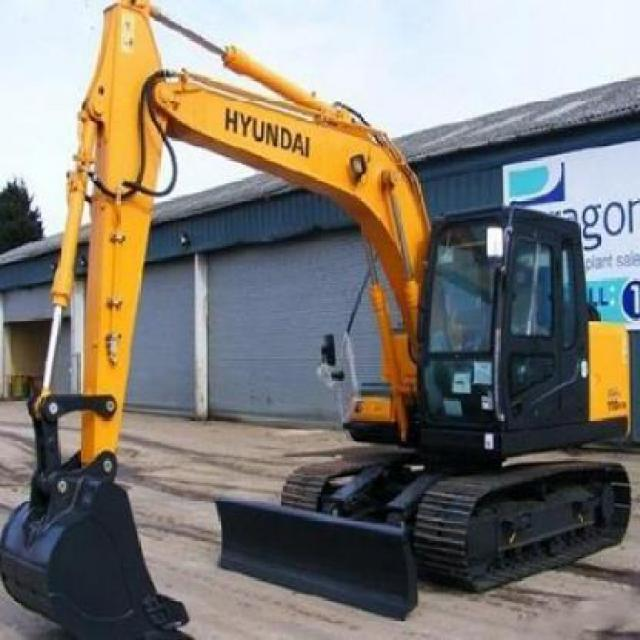Excavator: (2, 2, 630, 635)
